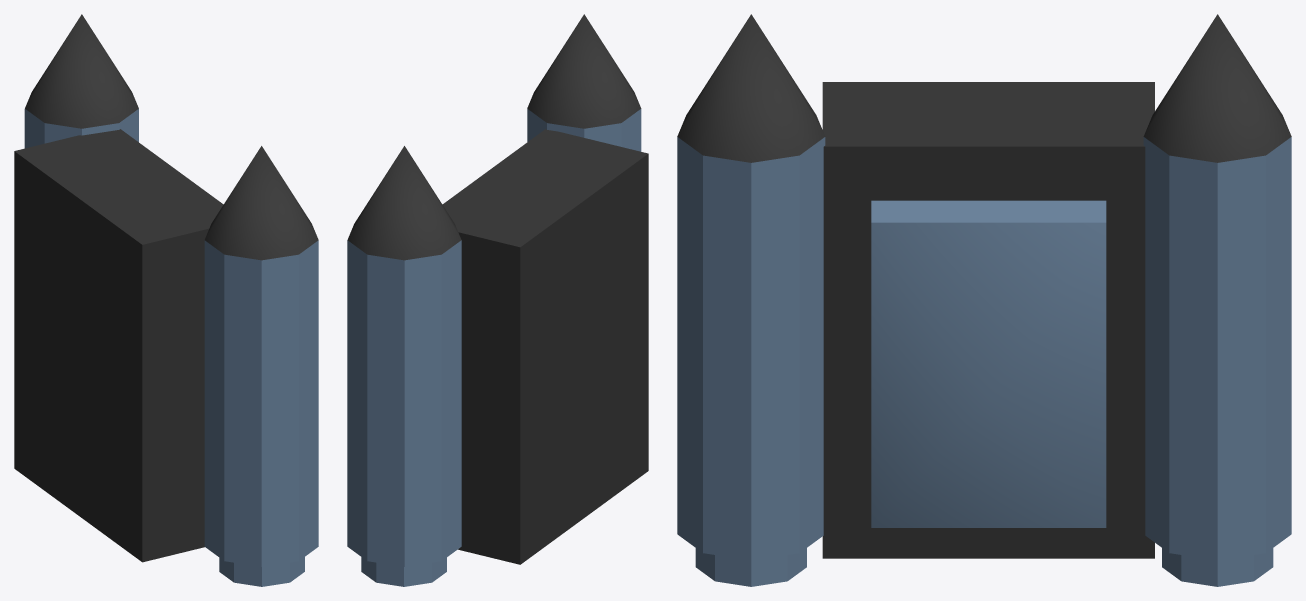
File: rocketObject.fbx
3 views of the same model, side by side, from view 1: azimuth 30°, elevation 25°; view 2: azimuth 150°, elevation 25°; view 3: azimuth 270°, elevation 25° (orthographic). The views are drawn at different scales.
Visible parts, largest first — view 1: FrontPart, Rocket1, Rocket2; view 2: FrontPart, Rocket2, Rocket1; view 3: FrontPart, backPart, Rocket2, Rocket1.
Boxes of the visible parts, x1=… form: FrontPart: x1=14, y1=129, x2=223, y2=562; Rocket1: x1=204, y1=146, x2=318, y2=586; Rocket2: x1=24, y1=14, x2=138, y2=148; FrontPart: x1=442, y1=129, x2=648, y2=564; Rocket2: x1=347, y1=146, x2=461, y2=586; Rocket1: x1=527, y1=14, x2=641, y2=151; FrontPart: x1=822, y1=82, x2=1154, y2=558; backPart: x1=871, y1=200, x2=1106, y2=527; Rocket2: x1=1143, y1=14, x2=1291, y2=586; Rocket1: x1=677, y1=14, x2=825, y2=586.
Size of the model in its own units: 9.37 by 21.48 by 21.79.
